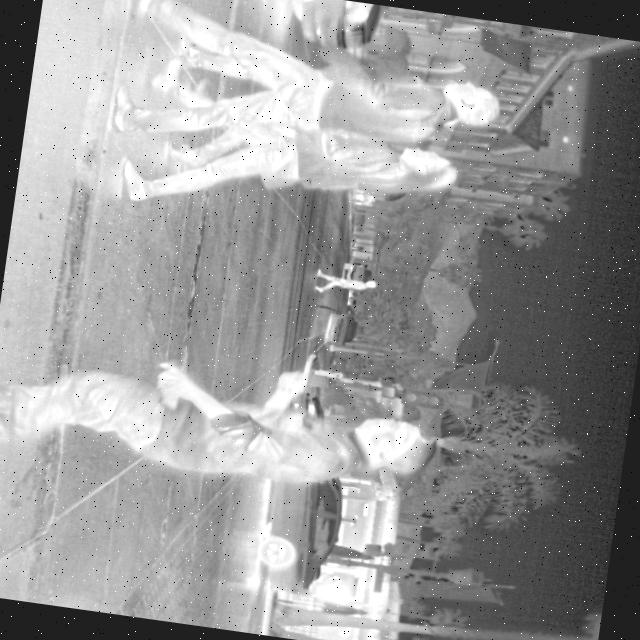Pedestrian: (0, 330, 439, 509), (103, 0, 509, 186), (114, 41, 469, 248), (313, 268, 378, 300)
Vehicle: (251, 390, 362, 600), (280, 0, 391, 62), (322, 311, 360, 348)
